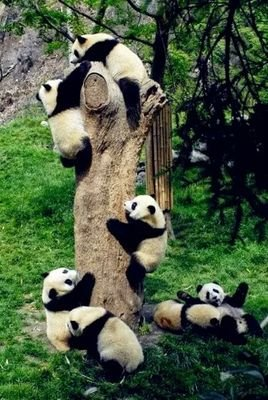panda: (69, 29, 160, 129), (37, 71, 101, 177), (110, 193, 177, 293), (67, 308, 146, 381), (190, 281, 261, 346), (38, 268, 89, 350), (149, 297, 221, 339)
